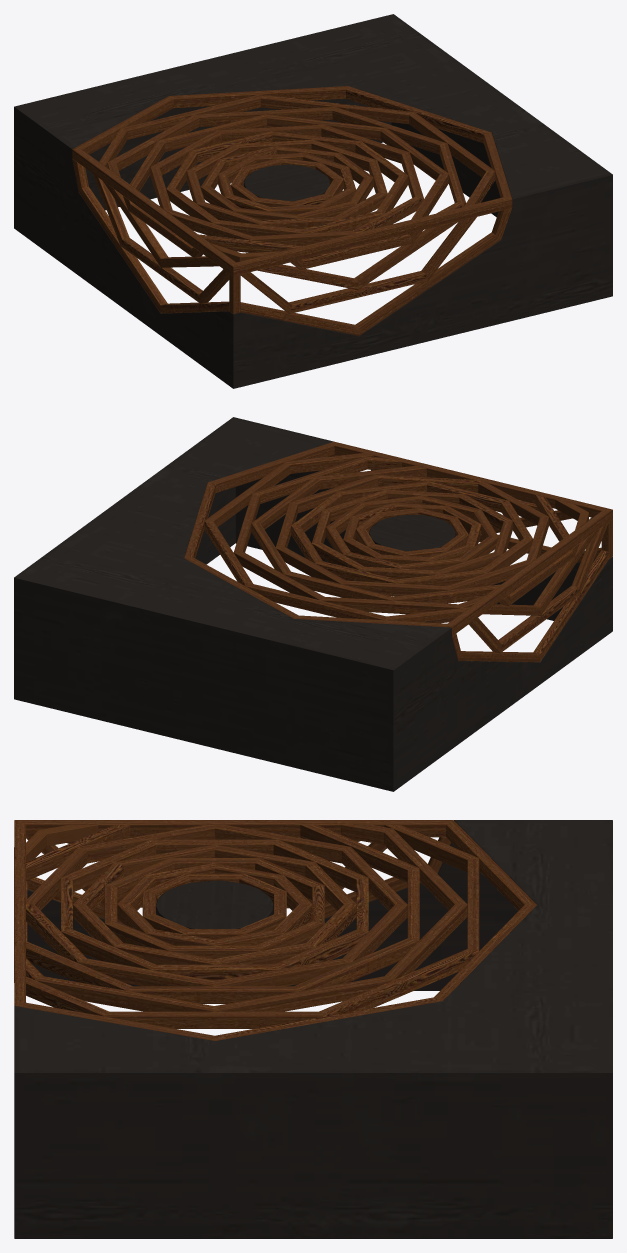
Rendered from modern_coffee_table_02.glb.
The picture shows the model from 3 angles, top to bottom: view 1: azimuth 30°, elevation 25°; view 2: azimuth 150°, elevation 25°; view 3: azimuth 270°, elevation 25°; orthographic projection. The views are drawn at different scales.
Visible parts, largest first — view 1: modern_coffee_table_02; view 2: modern_coffee_table_02; view 3: modern_coffee_table_02.
Boxes of the visible parts, left/top/right/bottom form: modern_coffee_table_02: left=14, top=14, right=612, bottom=388; modern_coffee_table_02: left=14, top=417, right=612, bottom=791; modern_coffee_table_02: left=14, top=820, right=612, bottom=1238.
Size of the model in its own units: 1.2 by 0.3692 by 1.2.
Materials: 2 (2 with a texture image).
